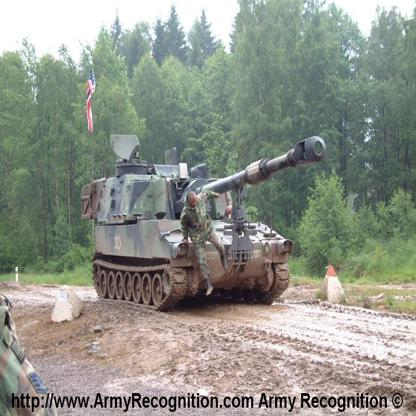Tank: (81, 129, 328, 316)
